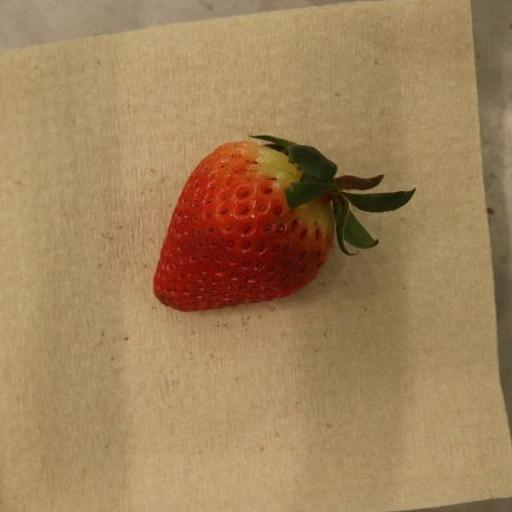Strawberry: (153, 135, 416, 313)
